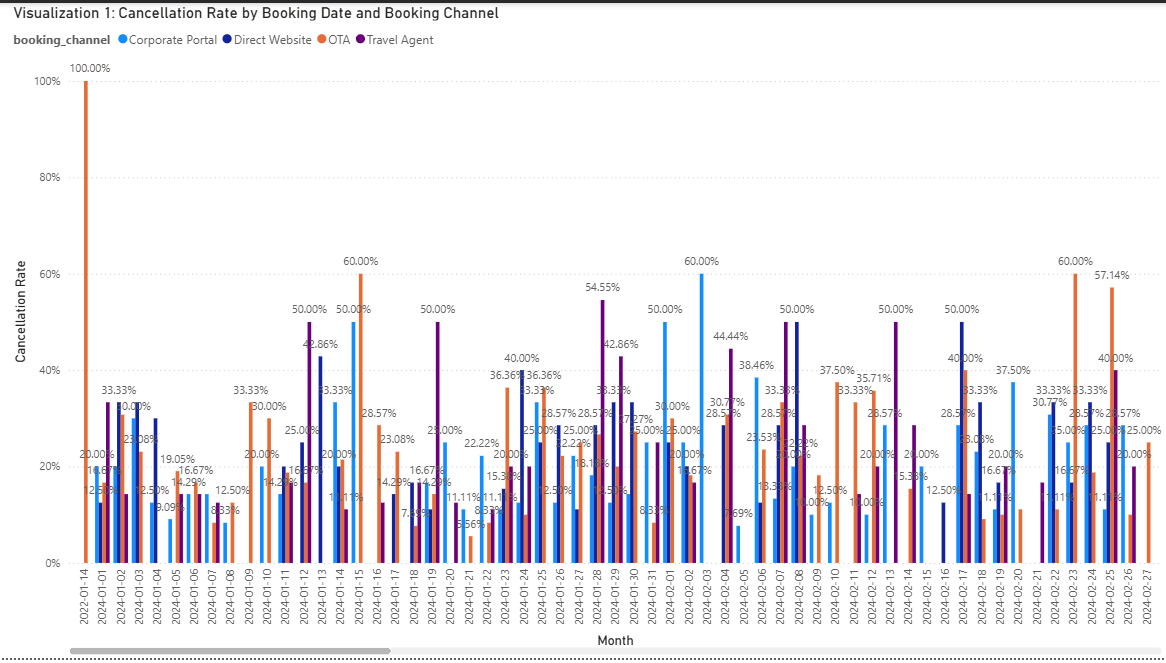

Layout of this report page (visuals, bound fields, positions):
{"tool":"powerbi","page":{"name":"Page 1","canvas":[1280,720],"ordinal":0},"visuals":[{"type":"clusteredColumnChart","title":"Visualization 1: Cancellation Rate by Booking Date and Booking Channel","fields":{"Series":["hotel_booking hotel_bookings.booking_channel"],"Y":["hotel_booking hotel_bookings.Cancellation Rate"],"Category":["hotel_booking hotel_bookings.Month"]},"box":[9.6,0,1270.7,720.4],"z":0}]}

Visuals, with their boxes in screenshot pixels (x1, y1, x2, y2), scaled from the page's 1280x720 canvas onto the 1166x663 screenshot:
"Visualization 1: Cancellation Rate by Booking Date and Booking Channel" clusteredColumnChart: {"left": 9, "top": 0, "right": 1165, "bottom": 662}
